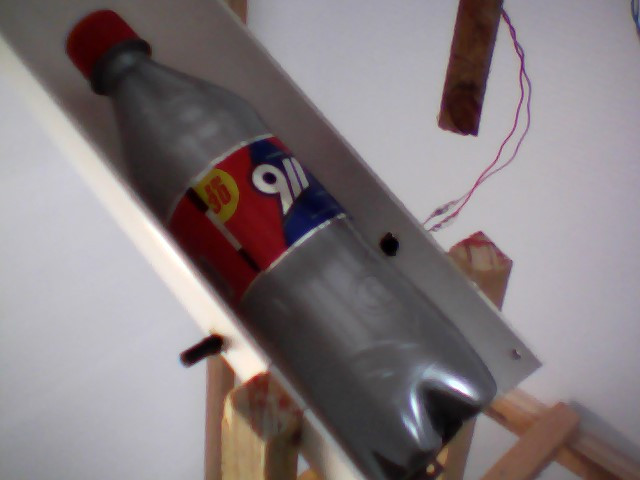plastico: (57, 3, 503, 480)
